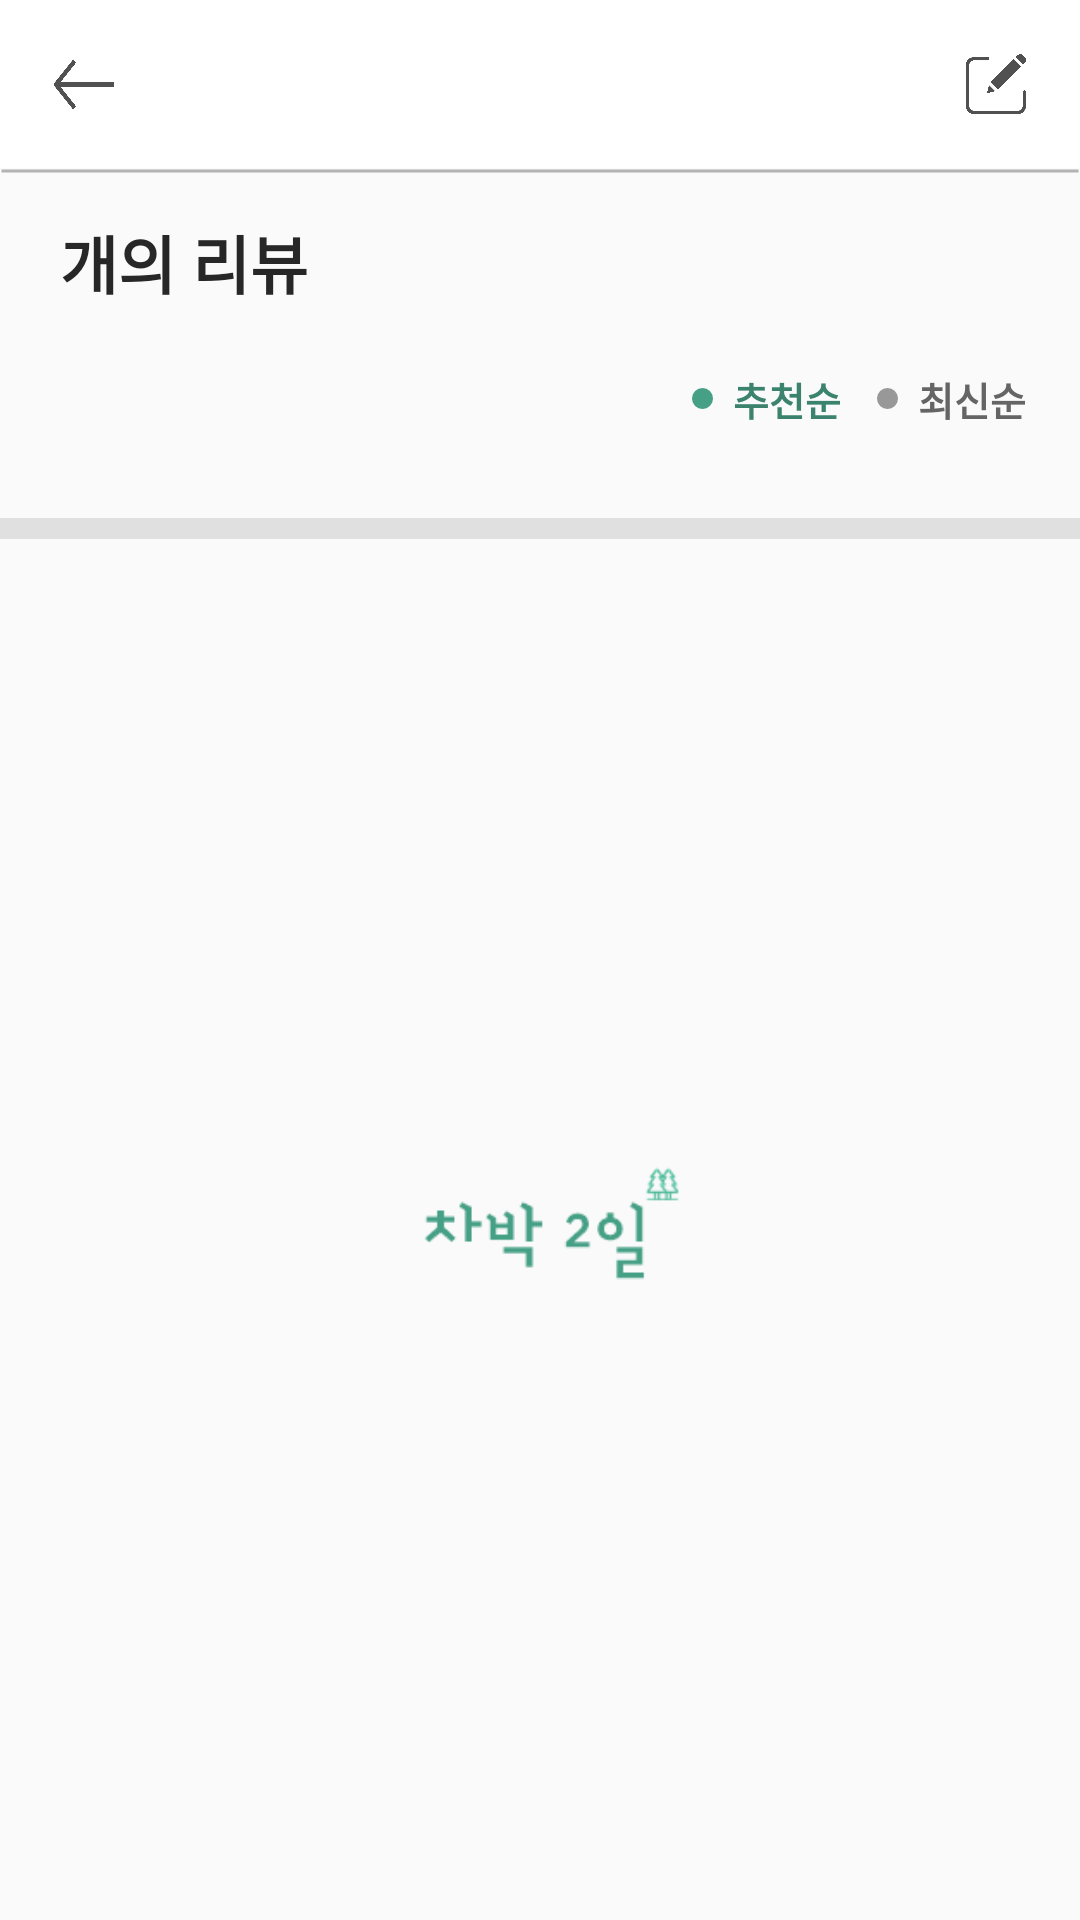

Named icons in this screenshot (1080w x 1920h) and their bounding boxes, (x1, y1, x2, y2):
left arrow: (54, 60, 114, 109)
